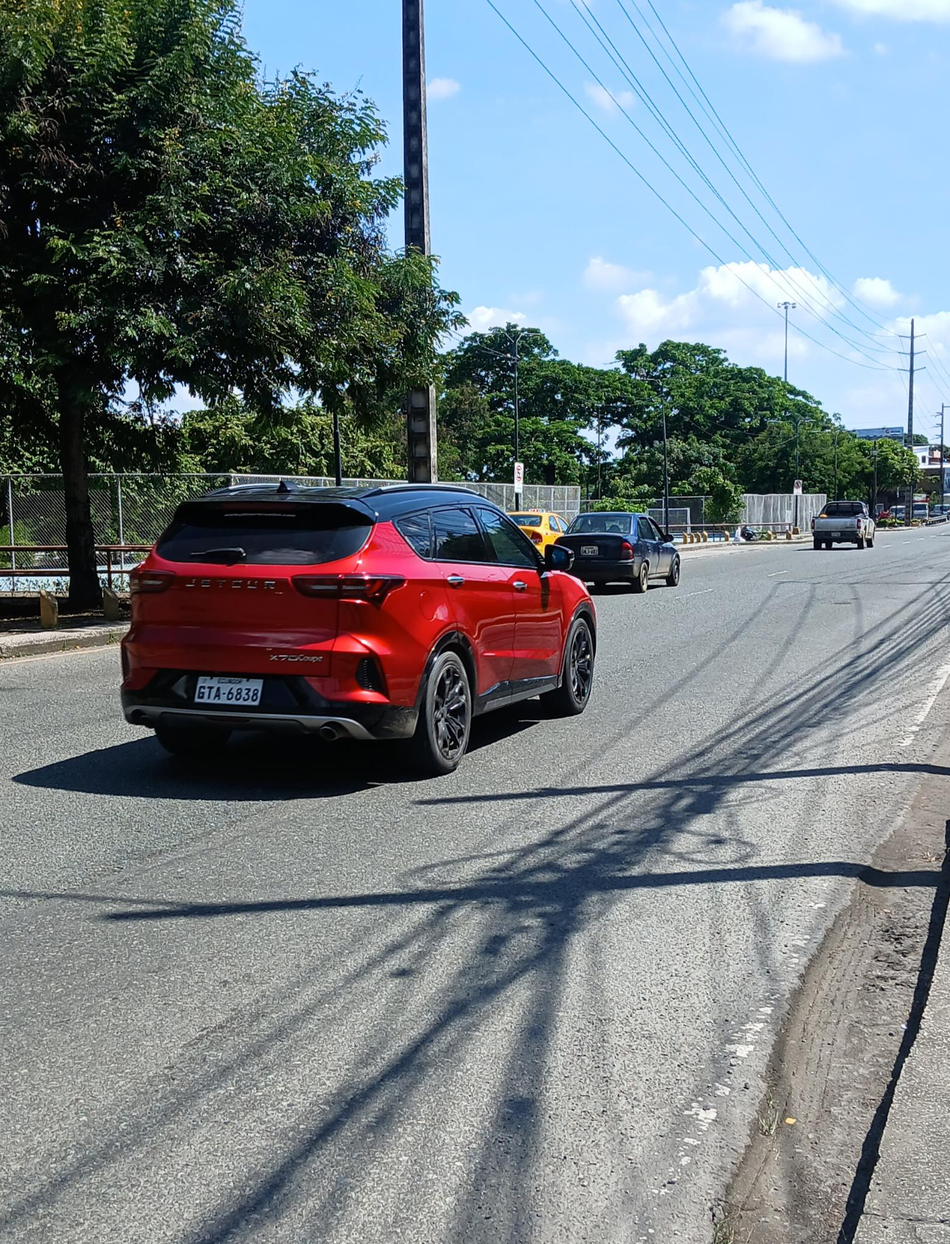license_plate: (191, 677, 261, 706), (582, 547, 597, 554)
